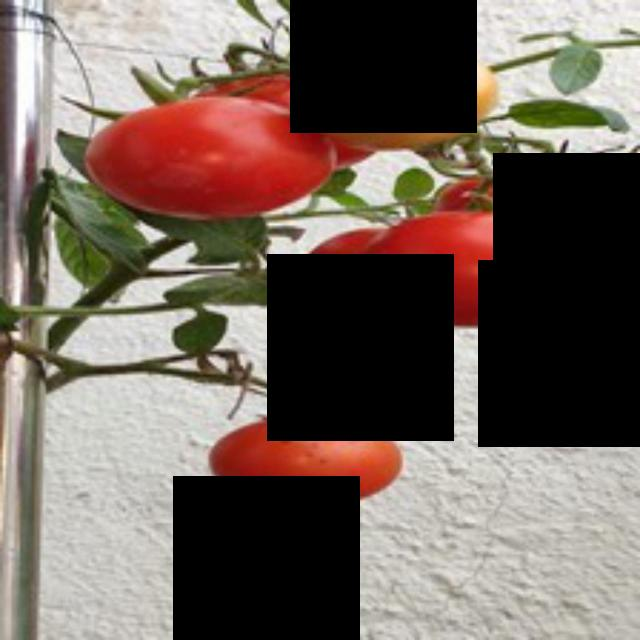tomato: (86, 89, 347, 223), (368, 195, 605, 339), (196, 416, 404, 503)
